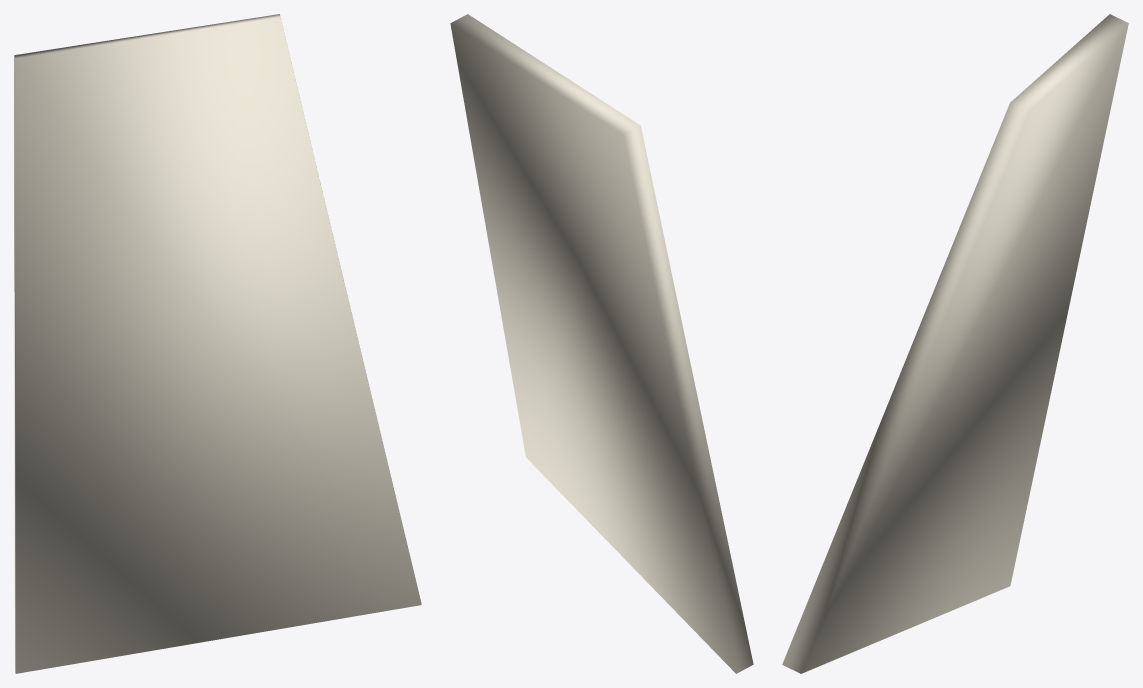
3 renders of one model, left to right at view 1: azimuth 30°, elevation 25°; view 2: azimuth 150°, elevation 25°; view 3: azimuth 270°, elevation 25°, orthographic. The views are drawn at different scales.
Visible parts, largest first — view 1: ZA_cb2ae6e21a15f6e8; view 2: ZA_cb2ae6e21a15f6e8; view 3: ZA_cb2ae6e21a15f6e8.
Part boxes in pixels (left/top/right/bottom): ZA_cb2ae6e21a15f6e8: left=14, top=14, right=421, bottom=673; ZA_cb2ae6e21a15f6e8: left=450, top=14, right=753, bottom=673; ZA_cb2ae6e21a15f6e8: left=782, top=14, right=1128, bottom=673.
Bounding box in the file's own units: 0.00537 × 0.00956 × 0.00484.
